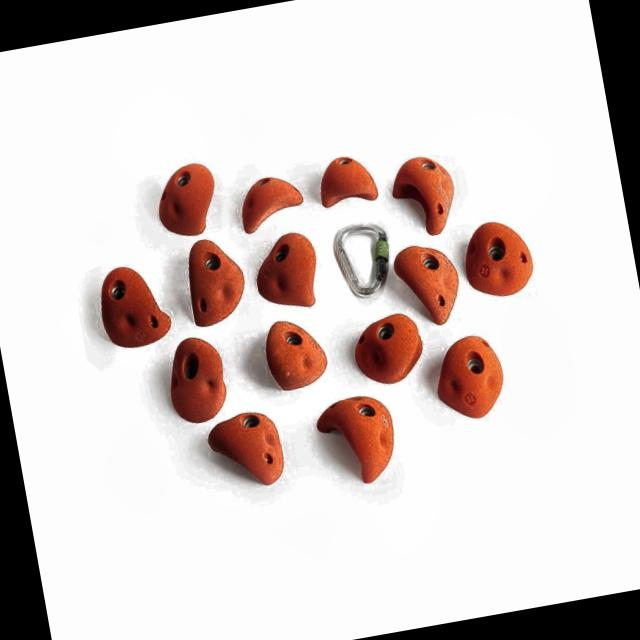Hold: (309, 382, 415, 495), (90, 253, 180, 355), (425, 330, 514, 430), (196, 408, 296, 492), (458, 208, 542, 306), (174, 235, 255, 332), (385, 146, 465, 240), (249, 226, 329, 316), (160, 334, 237, 427), (389, 238, 466, 330), (349, 311, 434, 385), (152, 155, 225, 238), (230, 160, 306, 237), (258, 312, 330, 390), (314, 152, 381, 212)
